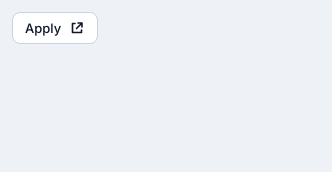
ApplyButton › opens the company page in a new tab, asks "Did you apply?", then records it
Click the link with aria-label "Apply to SDE Intern at Example" at [55, 28], box [12,12,98,44]
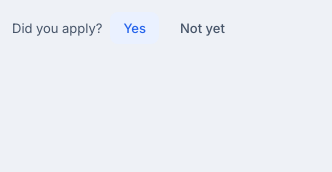
Check: the text "Did you apply?" is shown, box [12,19,102,37]
Click the button "Yes" at [135, 28], box [110,12,159,44]
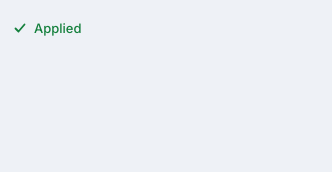
Check: the text "Applied" is shown, box [12,20,82,36]
